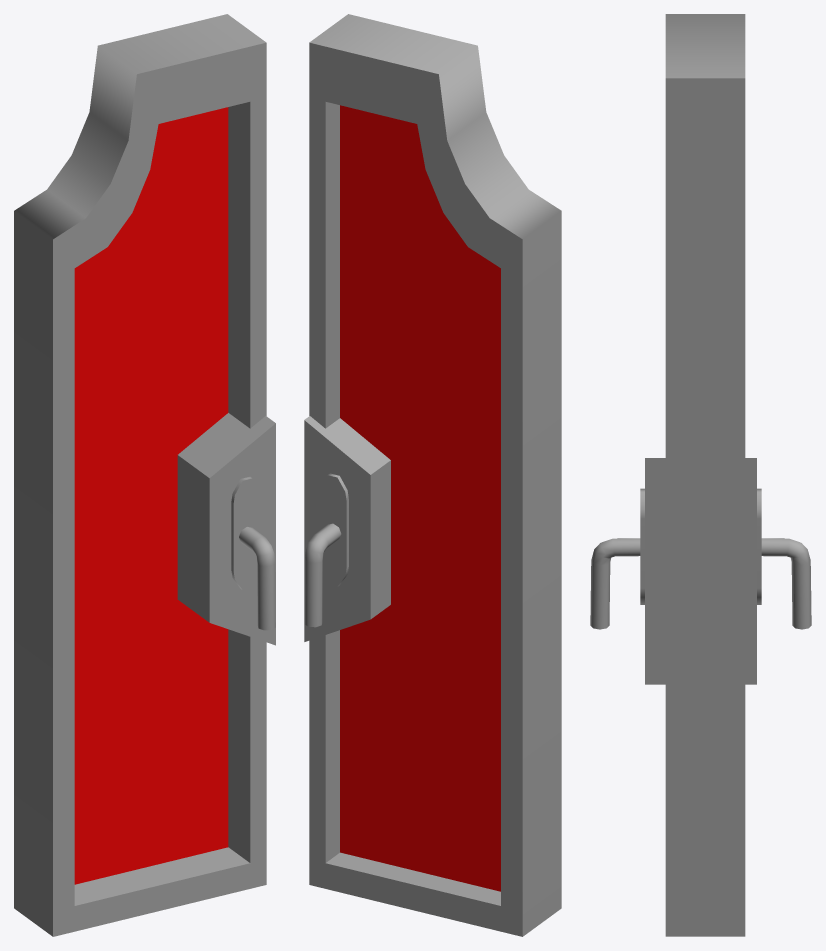
Rendered from PuertaL.fbx.
The picture shows the model from 3 angles, left to right: view 1: azimuth 30°, elevation 25°; view 2: azimuth 150°, elevation 25°; view 3: azimuth 270°, elevation 25°; orthographic projection.
Visible parts, largest first — view 1: PuertaL; view 2: PuertaL; view 3: PuertaL.
Boxes of the visible parts, x1,y1,x2,y2 form: PuertaL: (14, 14, 275, 936); PuertaL: (304, 14, 561, 936); PuertaL: (590, 14, 811, 936).
Bounding box in the file's own units: 88.49 × 333 × 77.71.
